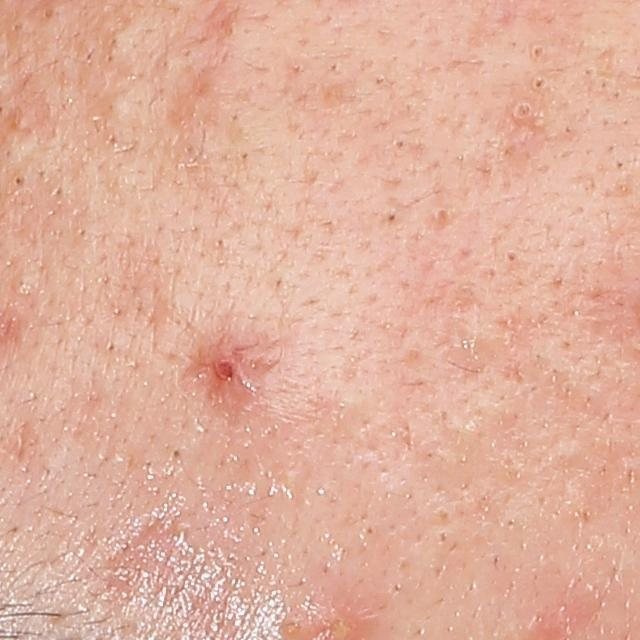comedo: (100, 90, 133, 118), (509, 101, 535, 120), (12, 275, 33, 298), (38, 3, 62, 22), (530, 43, 548, 61), (9, 173, 27, 188), (392, 135, 409, 150), (532, 74, 548, 89), (74, 225, 90, 240), (386, 208, 399, 224), (506, 248, 520, 262)
